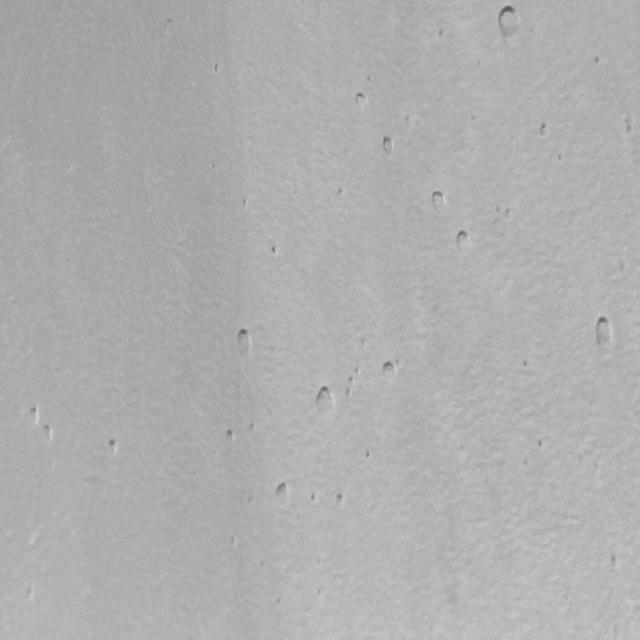pin holes: (494, 1, 524, 42), (590, 312, 616, 349), (232, 326, 255, 360), (310, 385, 334, 417), (426, 188, 449, 216), (272, 481, 294, 509), (379, 360, 403, 384), (453, 228, 474, 255), (379, 133, 399, 159), (353, 90, 372, 113), (605, 551, 624, 574), (622, 116, 638, 142), (25, 405, 42, 426), (42, 424, 57, 446), (107, 438, 123, 458), (22, 585, 38, 603), (334, 492, 348, 511), (535, 436, 551, 452), (538, 120, 552, 138), (224, 428, 238, 444), (590, 53, 604, 69), (502, 204, 516, 220), (335, 186, 348, 203), (210, 60, 223, 75), (436, 27, 448, 43), (404, 111, 414, 130), (268, 244, 281, 258), (363, 448, 376, 462), (247, 420, 258, 436), (239, 196, 251, 210), (308, 493, 320, 506), (522, 357, 530, 374), (229, 533, 237, 549), (276, 594, 284, 608), (354, 364, 361, 379), (247, 491, 254, 506), (556, 150, 563, 163), (348, 373, 354, 388), (366, 71, 372, 84), (344, 387, 350, 397)
